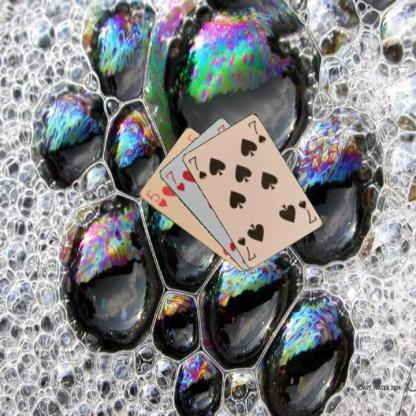5h: (143, 187, 169, 209)
7h: (162, 168, 186, 192)
7s: (185, 153, 208, 181), (295, 198, 318, 224)
